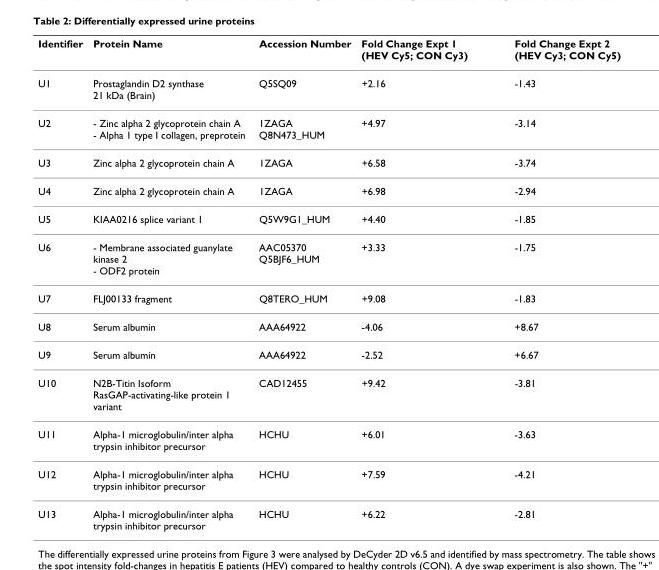table: (37, 36, 619, 530)
table column: (87, 36, 251, 530), (355, 36, 490, 530), (490, 36, 619, 530), (251, 36, 355, 530), (37, 36, 87, 530)
table column header: (37, 36, 619, 68)
table row: (37, 232, 619, 284), (37, 368, 619, 419), (37, 68, 619, 108), (37, 108, 619, 148), (37, 419, 619, 459), (37, 459, 619, 499), (37, 36, 619, 68), (37, 499, 619, 530), (37, 148, 619, 176), (37, 176, 619, 204), (37, 204, 619, 232), (37, 284, 619, 312), (37, 312, 619, 340), (37, 340, 619, 368)
